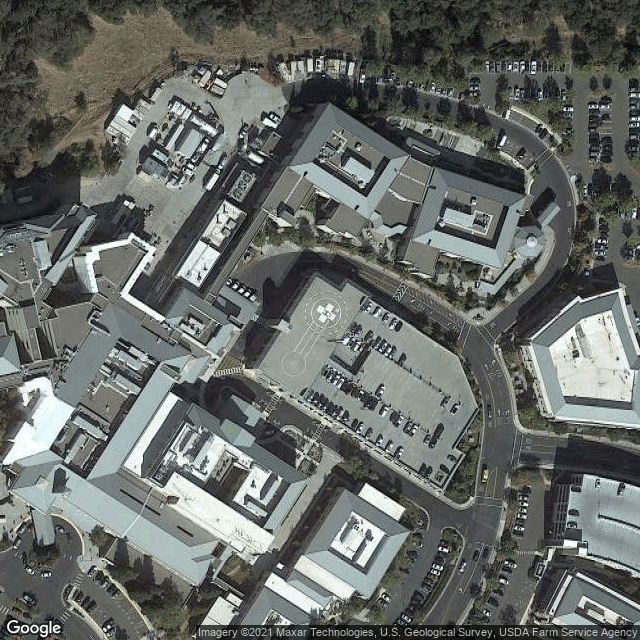Helipad: (306, 292, 349, 333)
